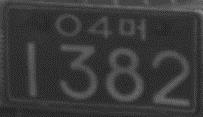0: (54, 12, 82, 38)
1: (16, 40, 47, 97)
2: (151, 49, 191, 107)
3: (58, 43, 98, 99)
4: (86, 15, 114, 40)
8: (104, 45, 145, 103)
머: (117, 16, 146, 41)
